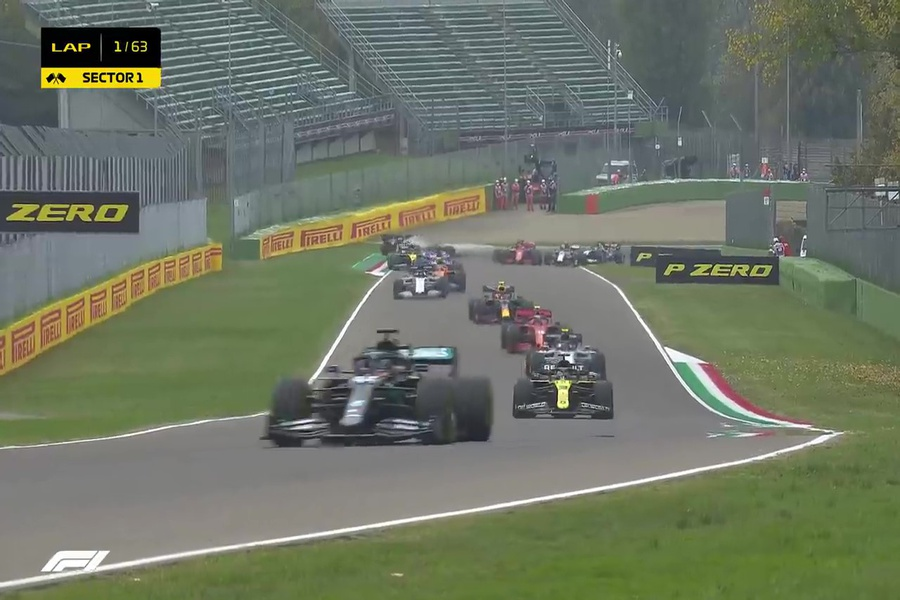Ferrari: (502, 307, 568, 348), (490, 240, 543, 265)
Mercedes: (264, 327, 496, 449)
Red Bull Racing: (470, 280, 534, 324)
Renault: (512, 353, 616, 421)
